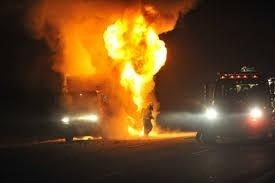fire: (99, 10, 169, 135)
